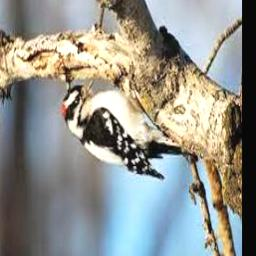Woodpecker: (63, 77, 198, 179)
